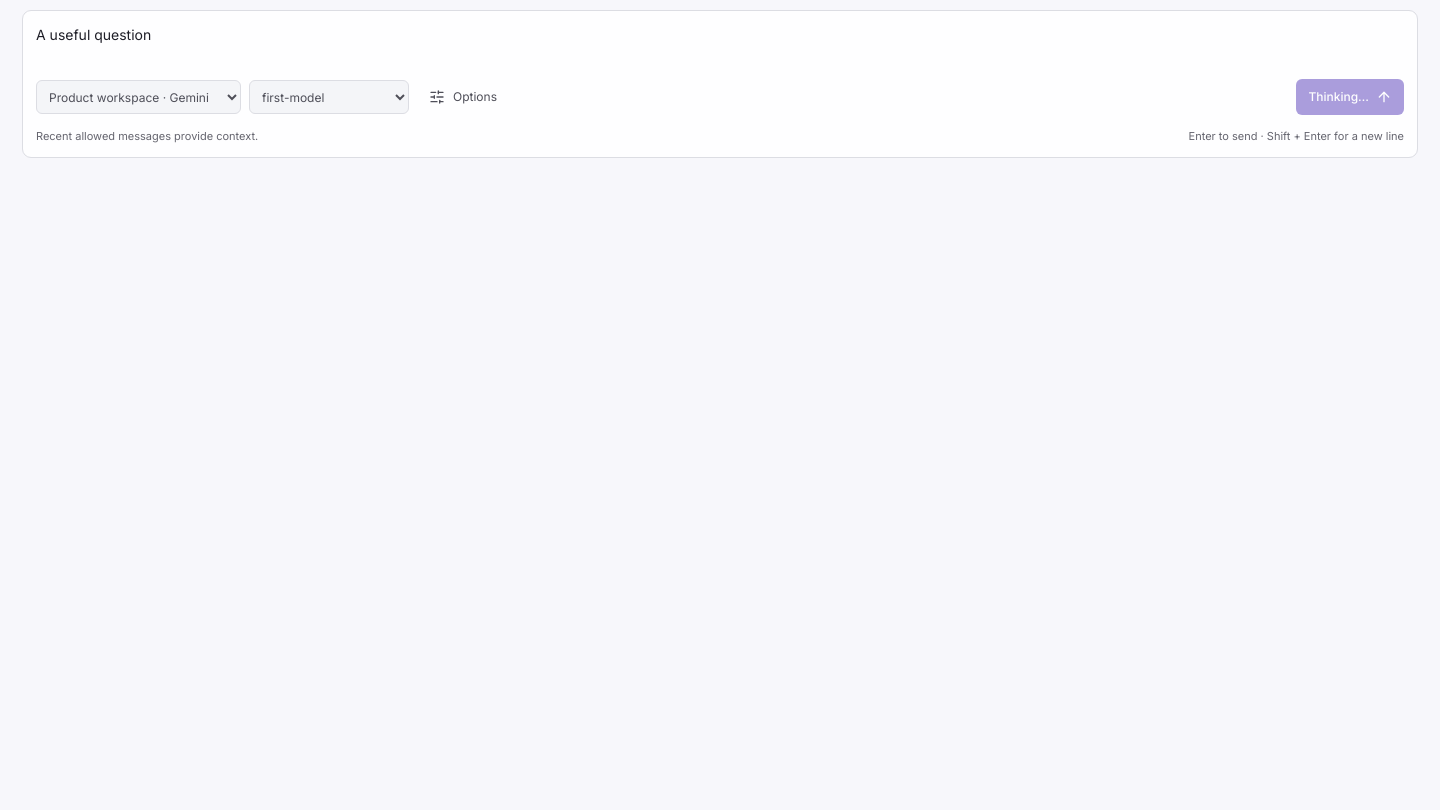
Test: disables generation value edits while a reply is pending
Click the button with aria-label "Generation options".
click(463, 97)  # box top-left (417, 79), bottom-right (509, 115)
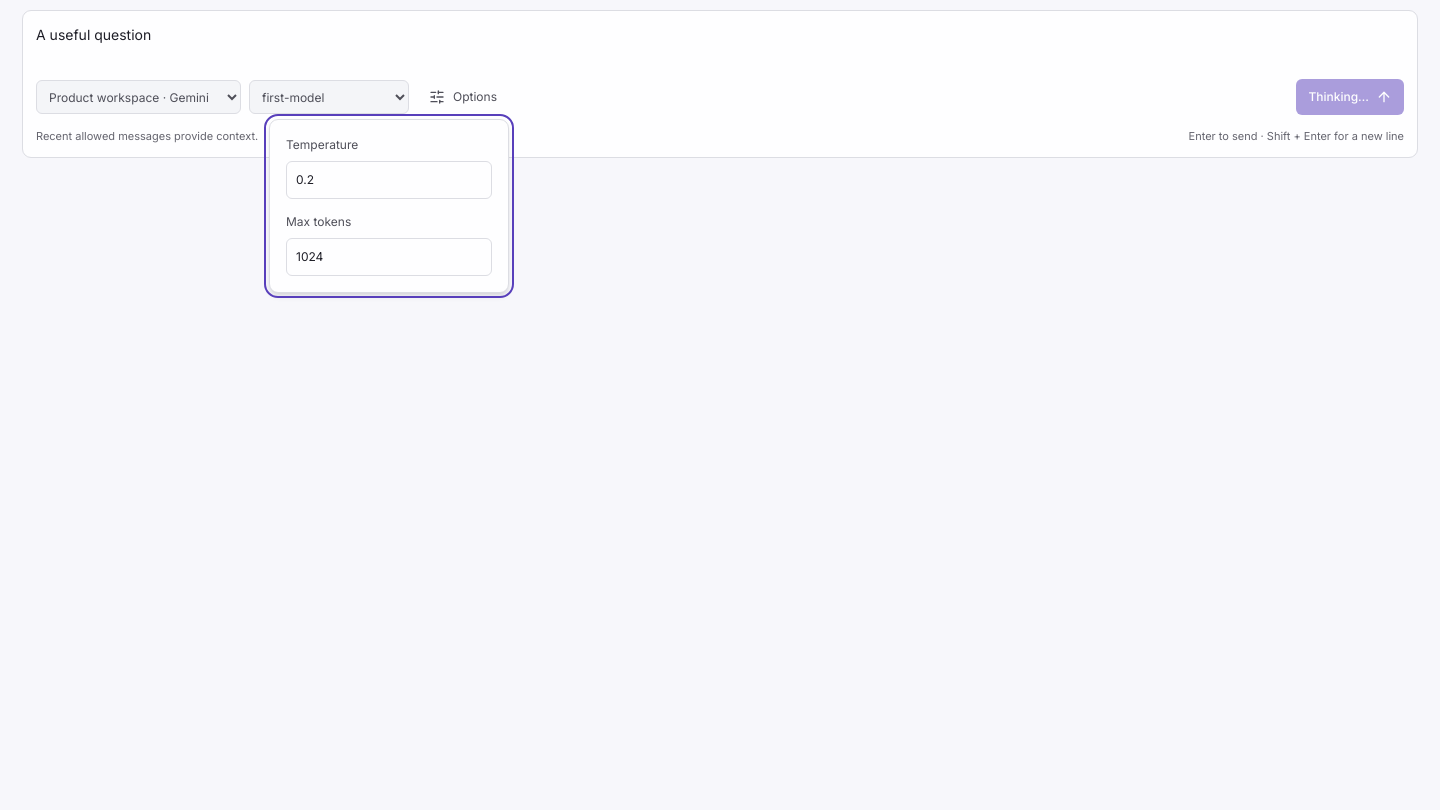
Expected: the number field labelled "Temperature" is disabled, top-left (286, 161), bottom-right (492, 199)
Expected: the number field labelled "Max tokens" is disabled, top-left (286, 238), bottom-right (492, 276)
